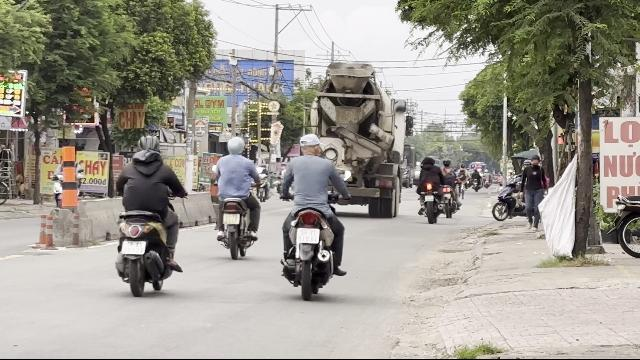helmet: (135, 136, 159, 156), (225, 136, 245, 156)
licenseplate: (121, 240, 145, 256), (297, 228, 319, 244), (223, 214, 239, 224)
motorcyclist: (276, 130, 350, 298), (112, 133, 184, 295), (208, 134, 262, 257)
nohelmet: (298, 132, 322, 156)
